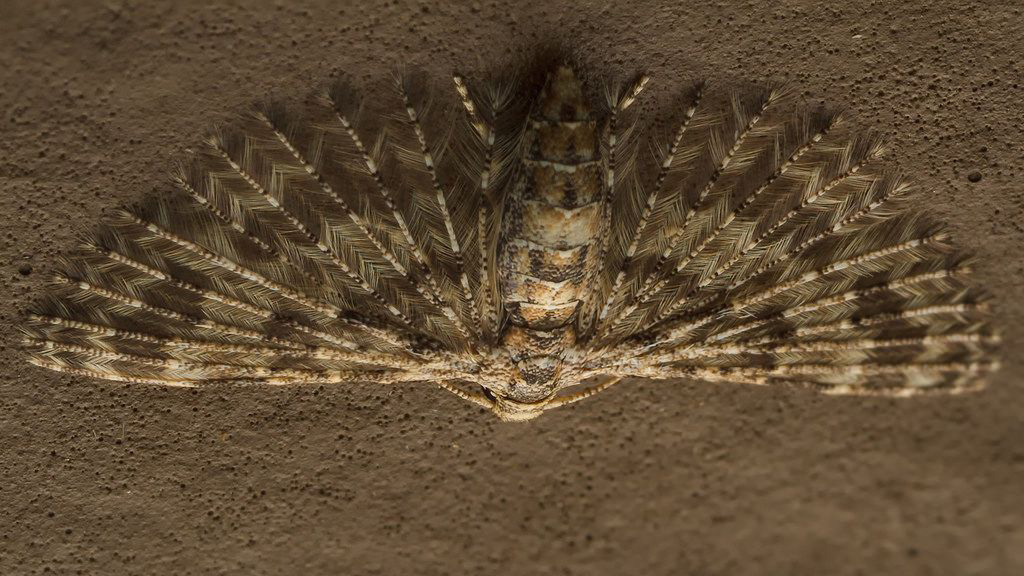Alucitidae: (21, 43, 1004, 435)
moth: (23, 45, 1006, 437)
